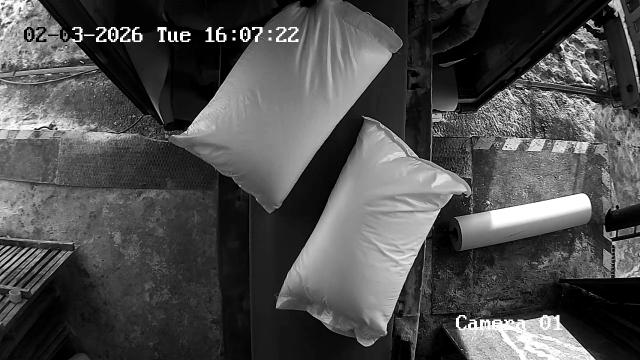bag: (170, 0, 403, 214), (276, 116, 470, 346)
